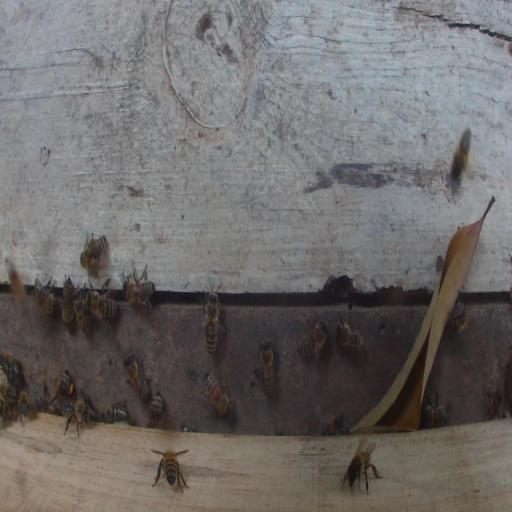bee: (341, 438, 383, 496), (200, 280, 227, 356), (154, 448, 190, 494), (250, 336, 276, 397), (449, 121, 474, 183), (123, 263, 155, 310), (202, 371, 232, 420), (123, 352, 149, 401), (298, 319, 330, 358), (84, 285, 118, 321), (80, 231, 107, 276), (61, 397, 89, 438), (337, 317, 365, 352), (33, 275, 56, 317), (422, 393, 451, 426), (447, 292, 468, 335), (74, 286, 90, 335), (1, 347, 22, 384), (61, 274, 75, 329), (55, 372, 74, 411), (1, 384, 19, 419), (321, 413, 349, 435), (18, 389, 35, 425), (148, 390, 164, 428), (104, 400, 130, 423), (485, 389, 503, 420), (36, 392, 55, 414)
